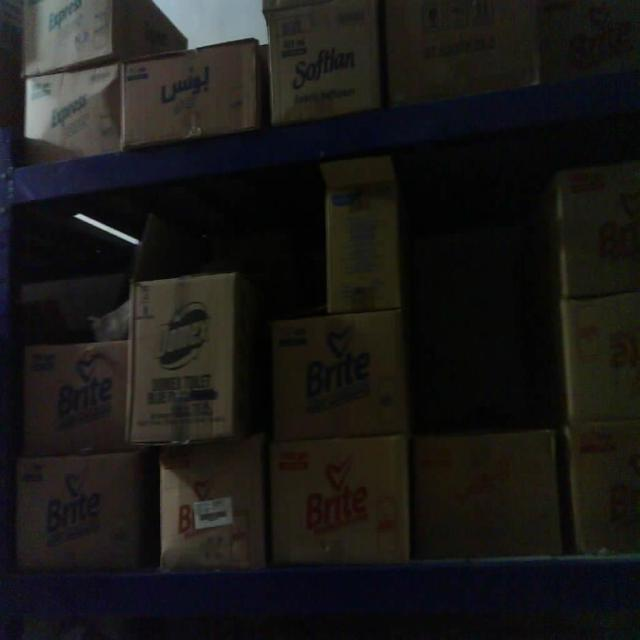box: (406, 427, 558, 561), (128, 274, 240, 442), (267, 436, 408, 560), (268, 316, 409, 434), (119, 35, 261, 151), (158, 429, 264, 567), (18, 454, 141, 565), (270, 0, 379, 119), (25, 342, 134, 452), (325, 174, 402, 314), (557, 164, 640, 290), (559, 298, 640, 419), (566, 423, 640, 551), (27, 60, 119, 160), (24, 0, 114, 76)
